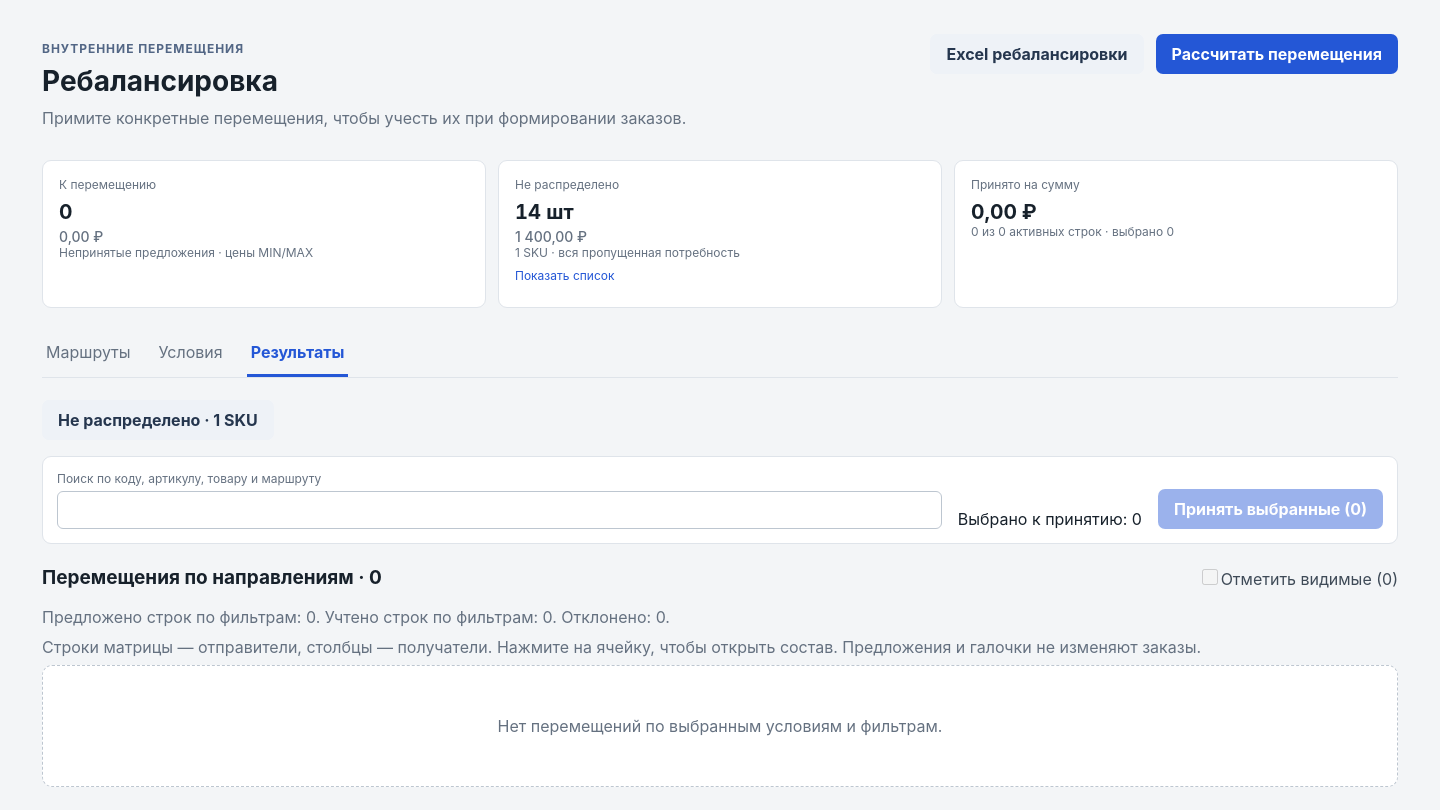
opens skipped need from the dashboard and explains why trial flow was discarded
The image size is (1440, 810).
Click the button "Показать список": [565, 276] box [515,260,614,291]
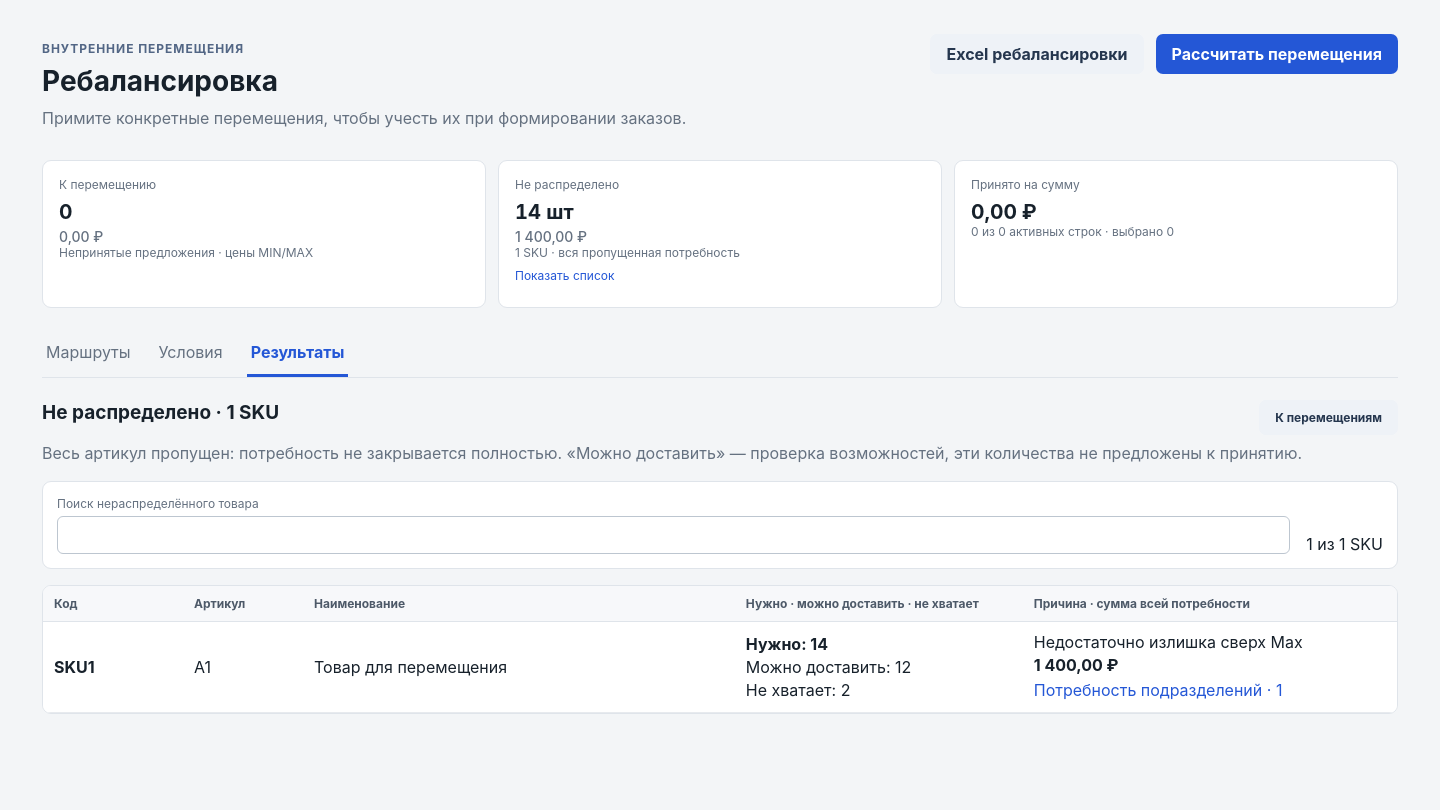
Now the element named "Нераспределённые артикулы" shows "Нужно: 14", box [42,400,1398,714]
Now the element named "Нераспределённые артикулы" shows "Можно доставить: 12", box [42,400,1398,714]
Now the element named "Нераспределённые артикулы" shows "Не хватает: 2", box [42,400,1398,714]
Click the button "Потребность подразделений · 1": [1210, 690] box [1034,678,1386,702]
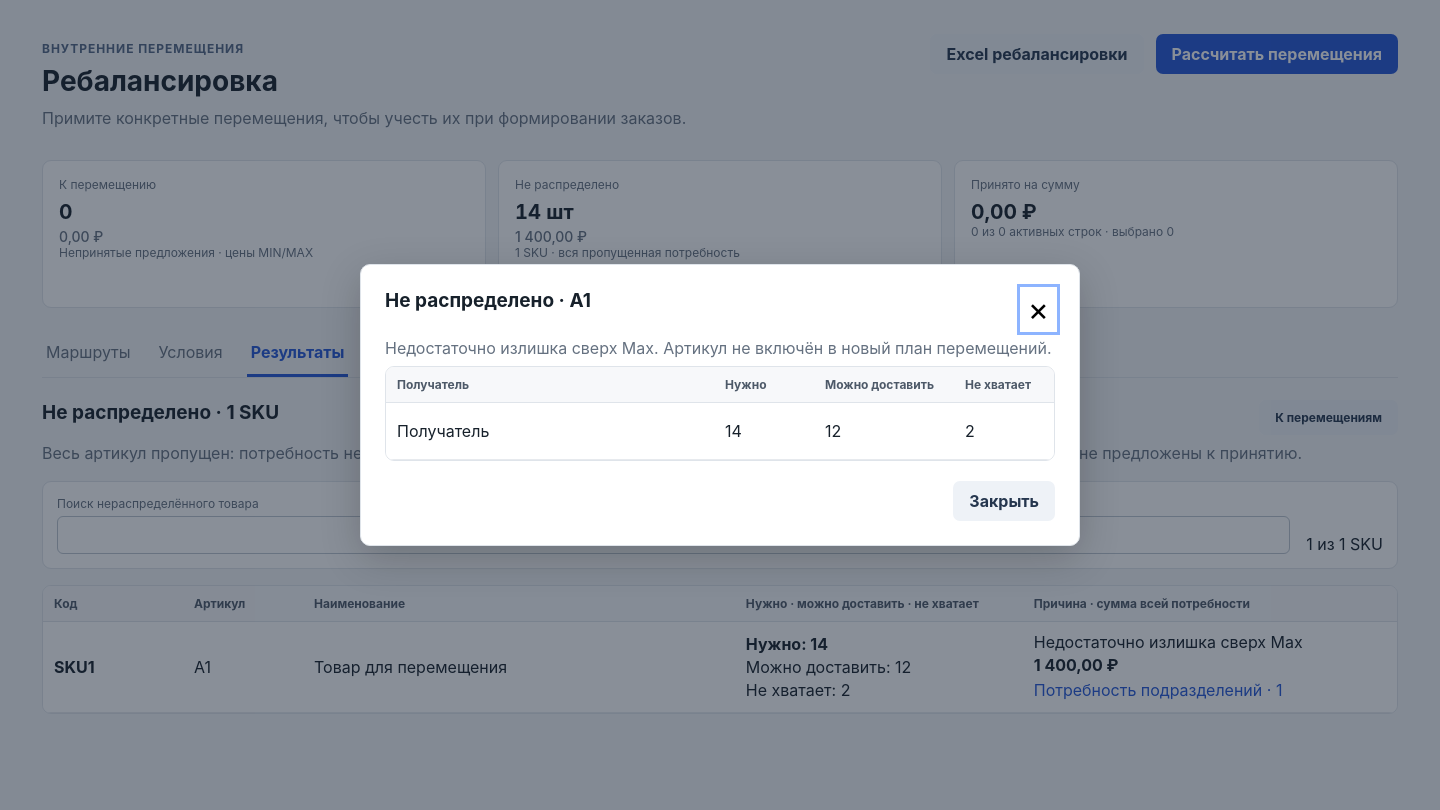
Now the dialog "Не распределено · A1" shows "Получатель", box [397,377,469,392]
